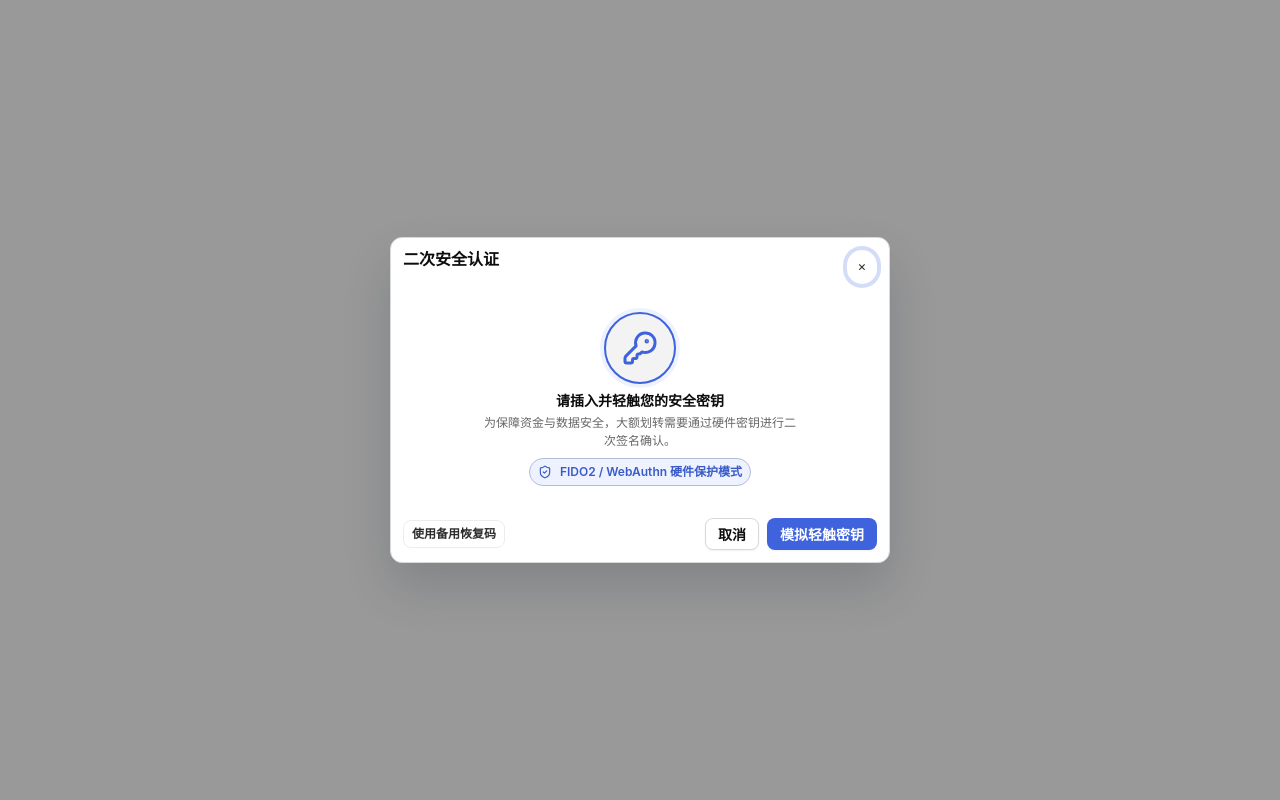
StepUpSecurityModal › handles WebAuthn cancellation gracefully
The image size is (1280, 800).
Click the button with test id "stepup-touch-btn": x=822, y=534 [767,518,877,550]
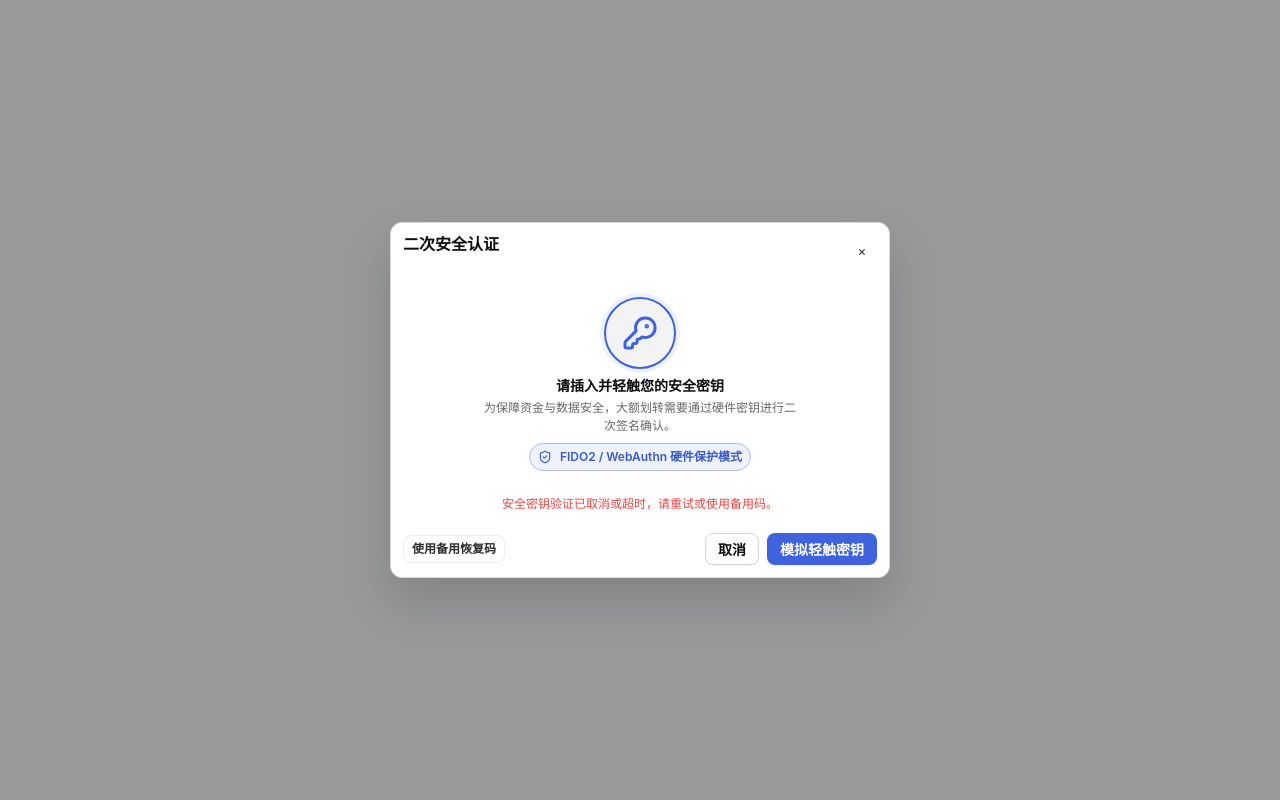
Expected: the text "安全密钥验证已取消或超时，请重试或使用备用码。" is shown, [502,496,778,511]
